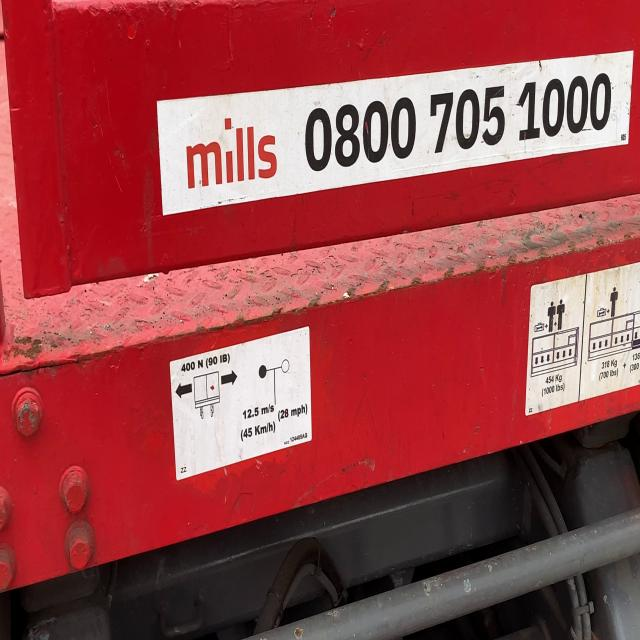Adesivo Longo: (152, 41, 638, 222)
